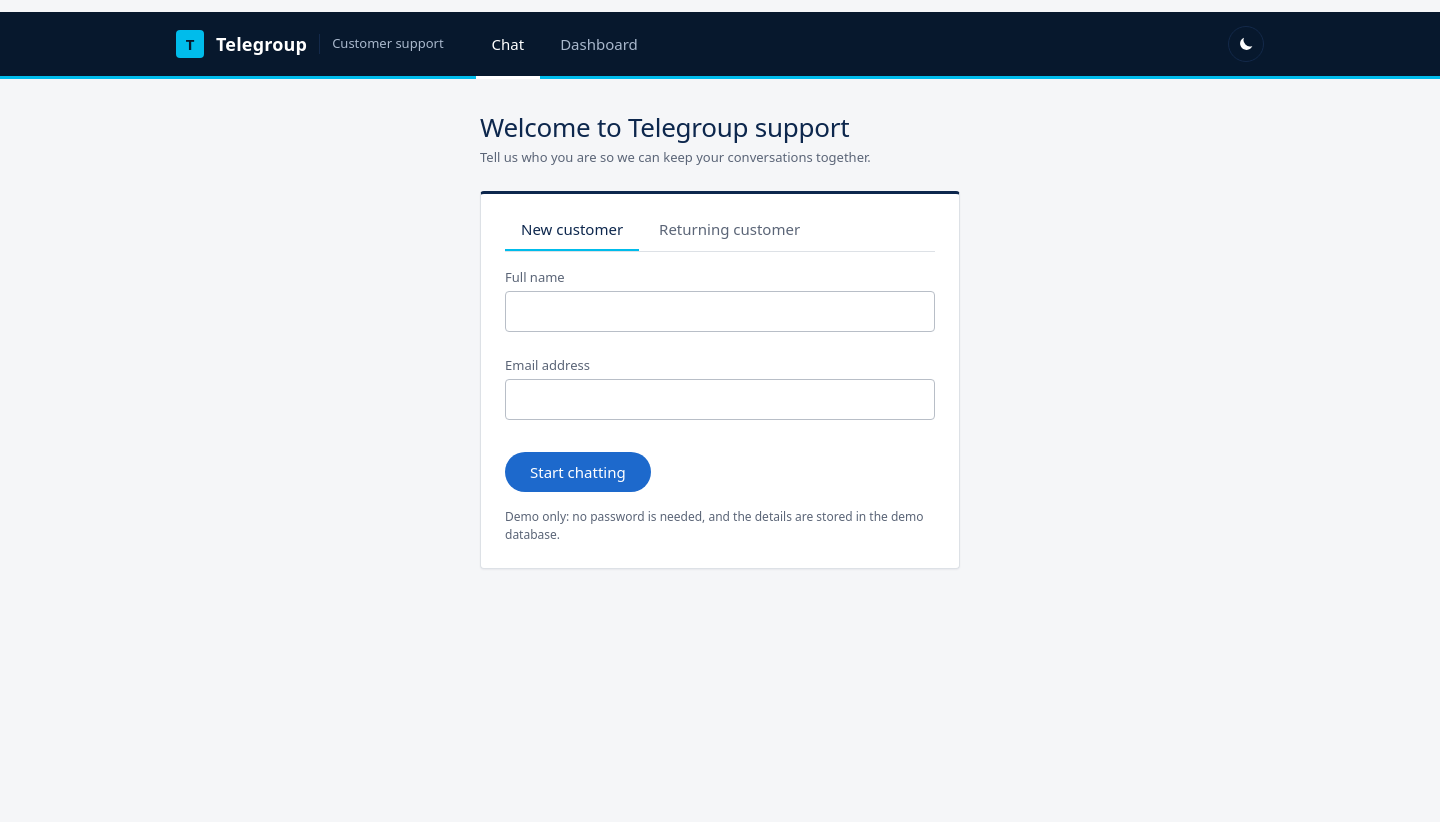
Test: App shell › keeps the customer when moving between the chat and the dashboard
Type "Jane Doe" into the field labelled "Full name".
click(720, 311); type("Jane Doe")  # box left=505, top=291, right=935, bottom=332
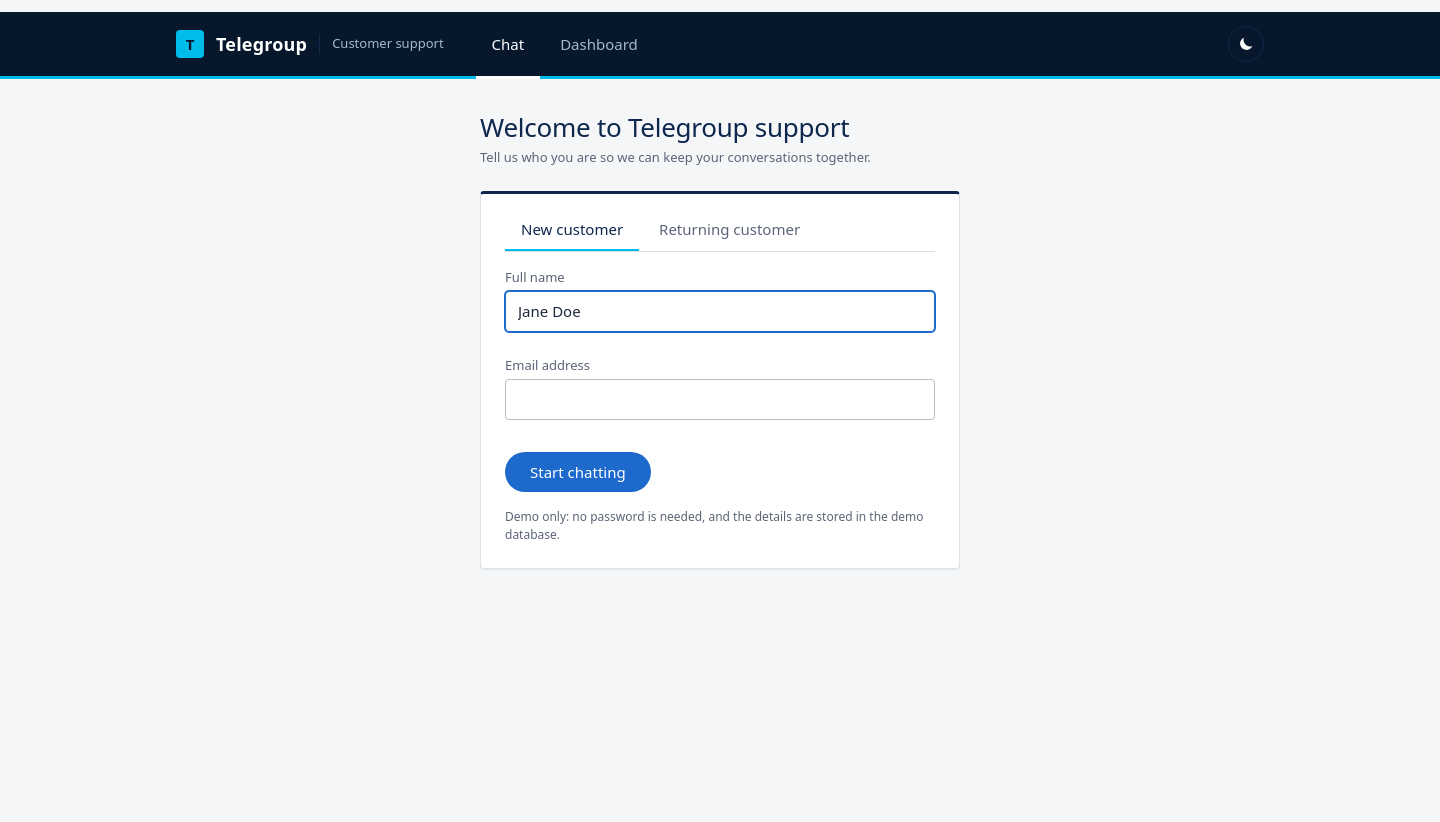
Type "jane@example.com" into the field labelled "Email address".
click(720, 399); type("jane@example.com")  # box left=505, top=379, right=935, bottom=420
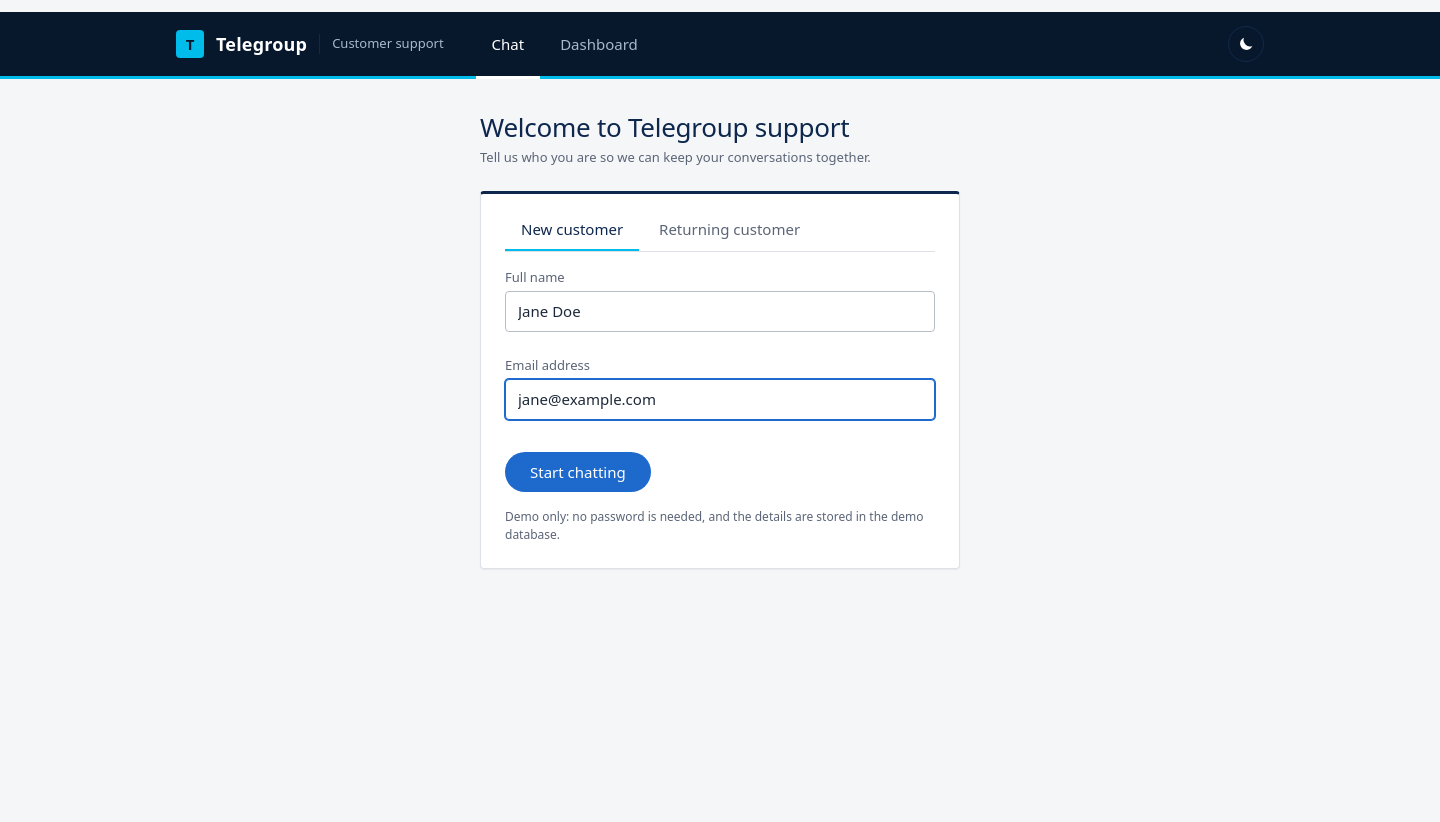
Click the button "Start chatting".
click(578, 472)  # box left=505, top=452, right=651, bottom=492
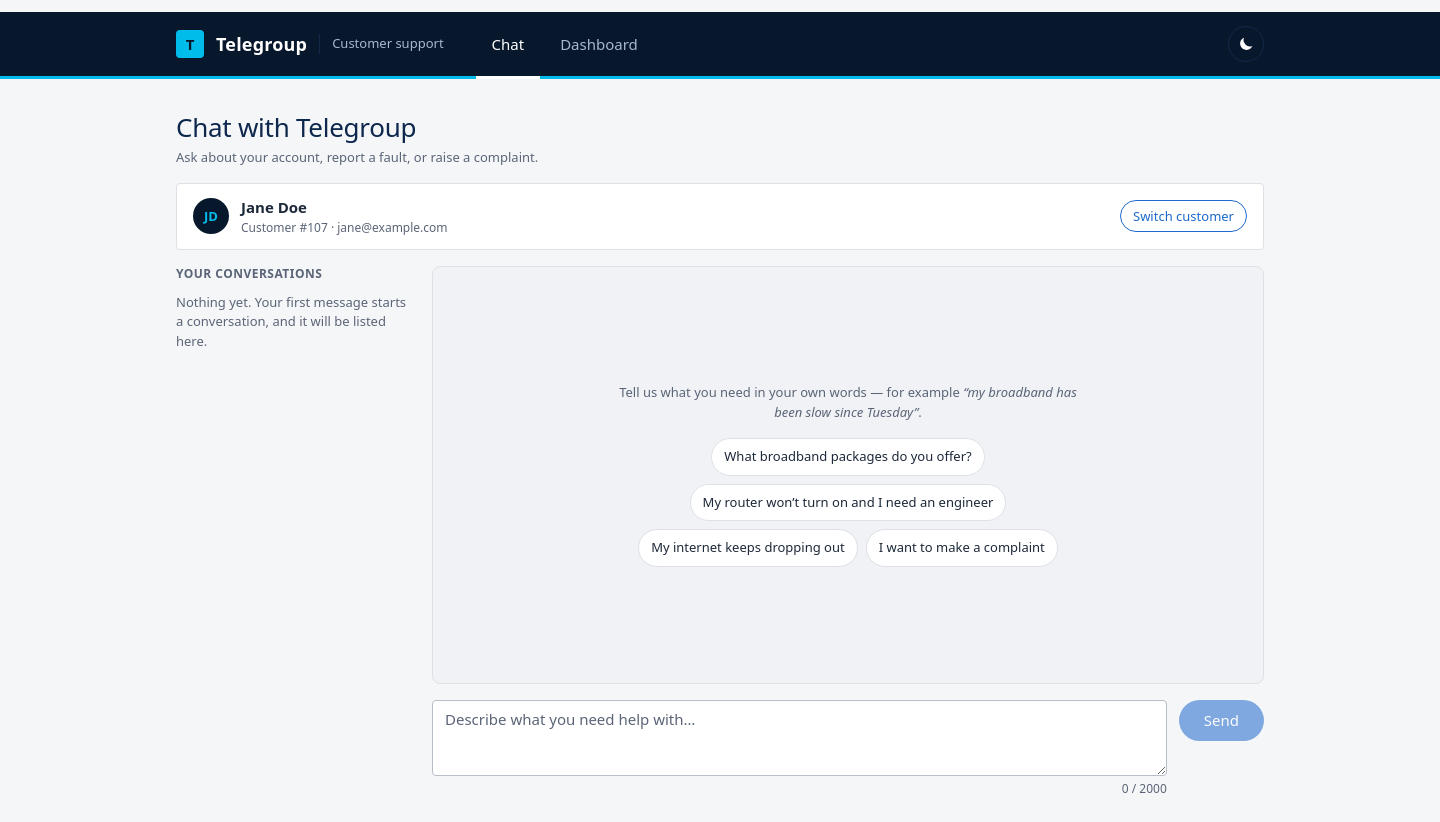
expect the heading "Chat with Telegroup" is shown: met, box left=176, top=109, right=416, bottom=145
Click the button "Dashboard".
click(599, 46)  # box left=544, top=12, right=654, bottom=79
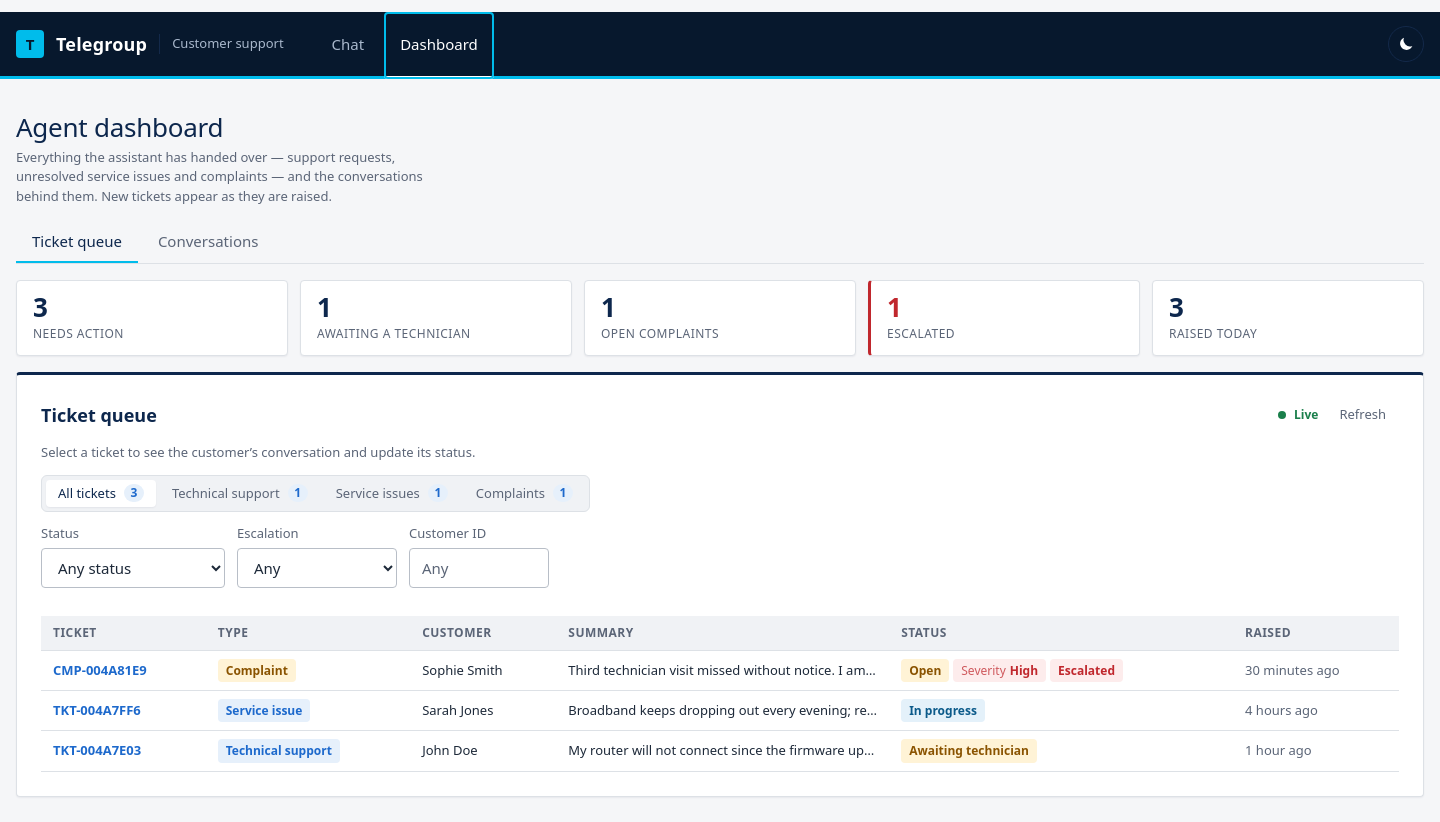
Click the button "Chat".
click(348, 46)  # box left=316, top=12, right=380, bottom=79
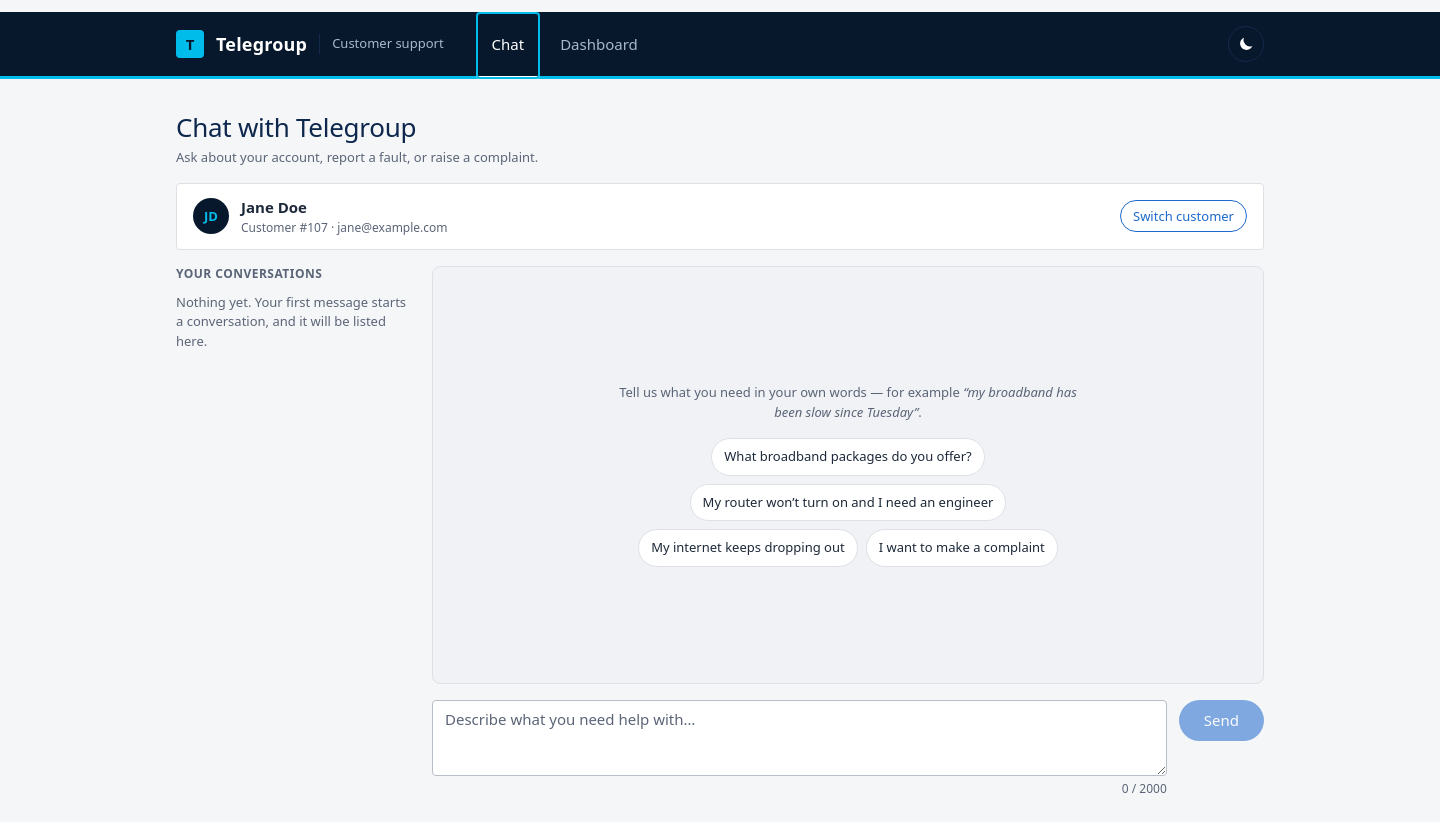
expect the text "Jane Doe" is shown: met, box left=241, top=197, right=307, bottom=217
